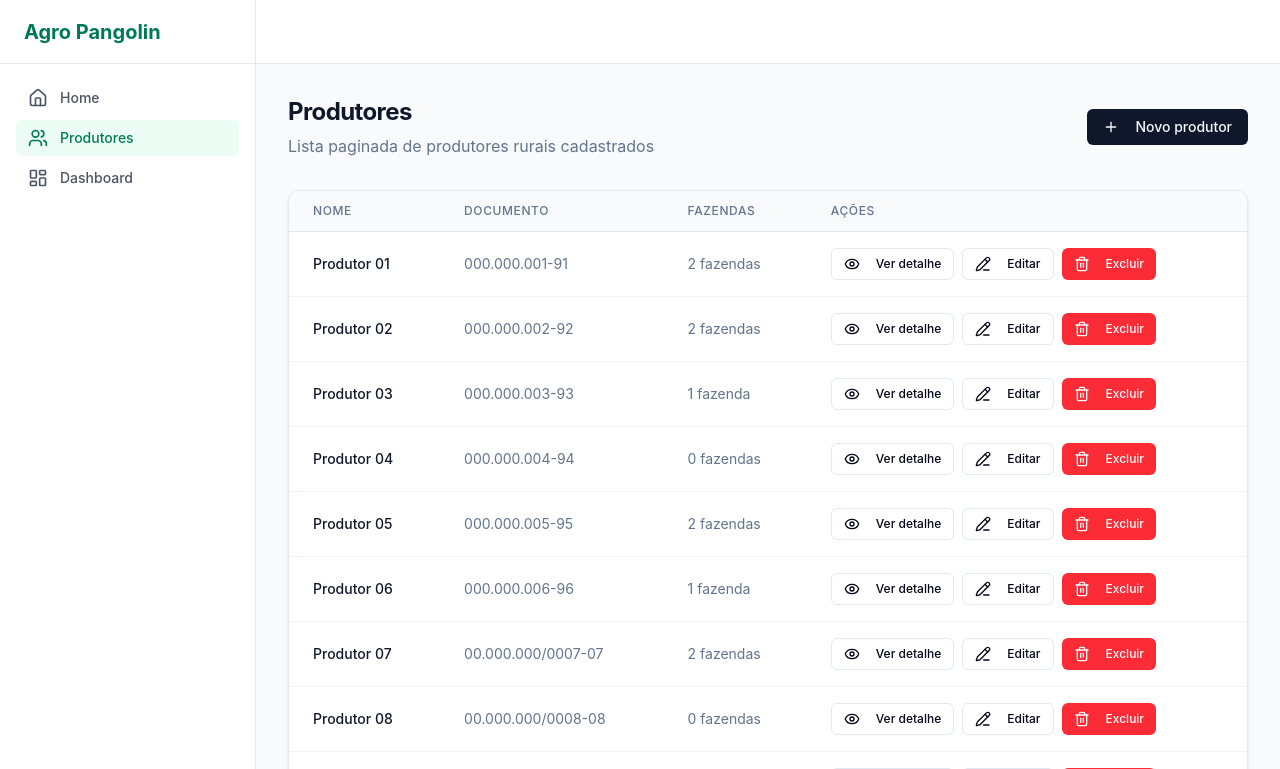
Test: Página de listagem de produtores › exibe banner de erro quando a exclusão falha
The image size is (1280, 769).
Expected: the text "Produtor 01" is shown, x1=289 y1=232 x2=440 y2=296
Click the button with aria-label "Excluir Produtor 01": (1109, 264) x1=1062 y1=248 x2=1156 y2=280
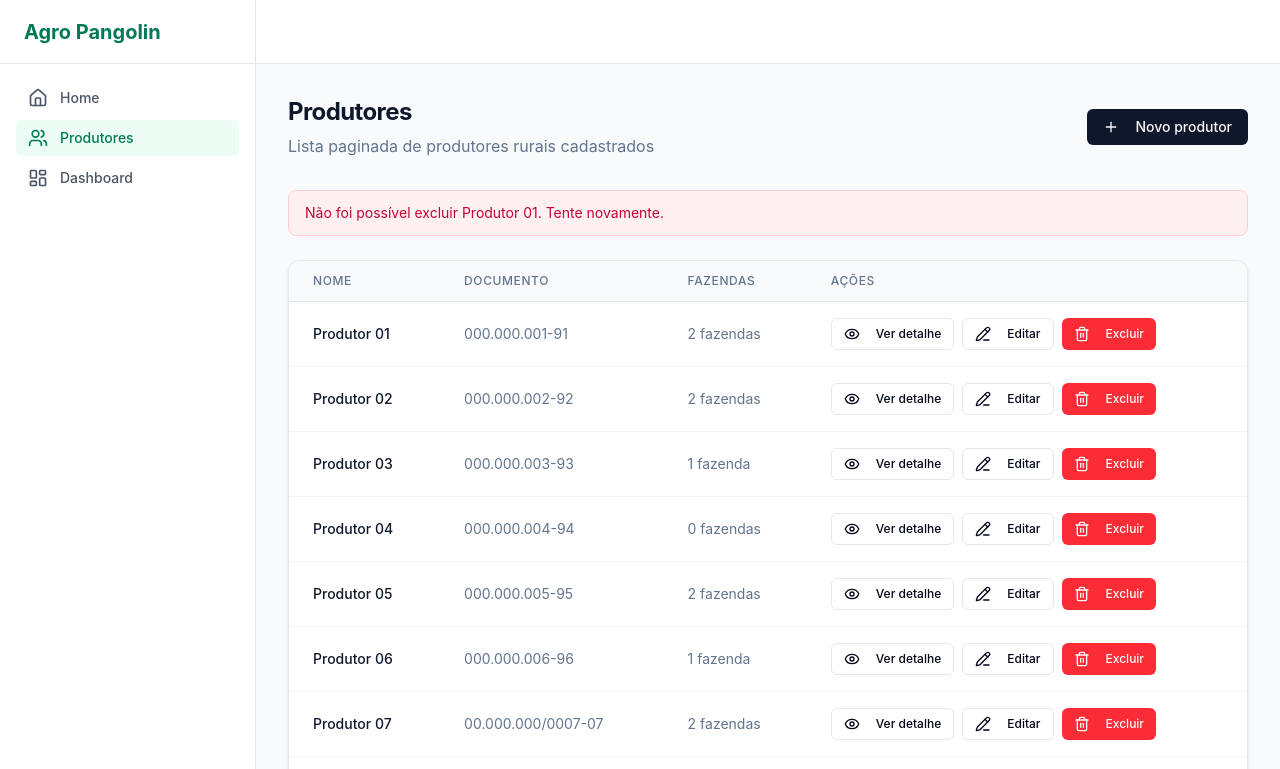
Expected: the message "Não foi possível excluir Produtor 01. Tente novamente." is shown, x1=288 y1=190 x2=1248 y2=236
Expected: the message reads "Não foi possível excluir Produtor 01. Tente novamente.", x1=305 y1=204 x2=664 y2=221
